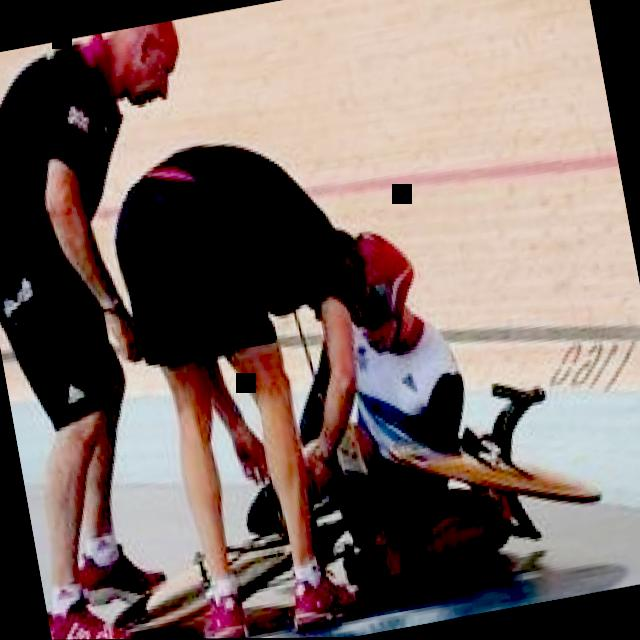Fall-Detected: (232, 181, 568, 609)
